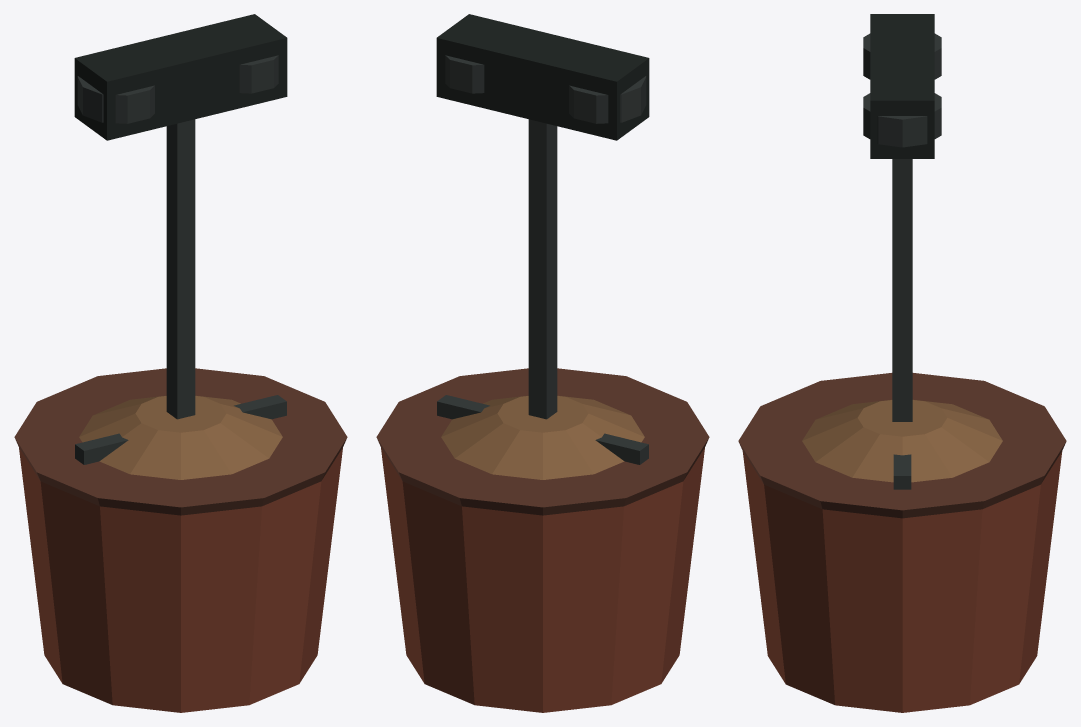
File: w3_ore_bucket.glb
The picture shows the model from 3 angles, left to right: view 1: azimuth 30°, elevation 25°; view 2: azimuth 150°, elevation 25°; view 3: azimuth 270°, elevation 25°; orthographic projection.
Visible parts, largest first — view 1: OreBucket; view 2: OreBucket; view 3: OreBucket.
Part boxes in pixels (x1,y1,x2,y2): OreBucket: (14,14,347,712); OreBucket: (376,14,709,712); OreBucket: (738,14,1066,712).
Bounding box in the file's own units: 2.56 × 5.15 × 2.56.
